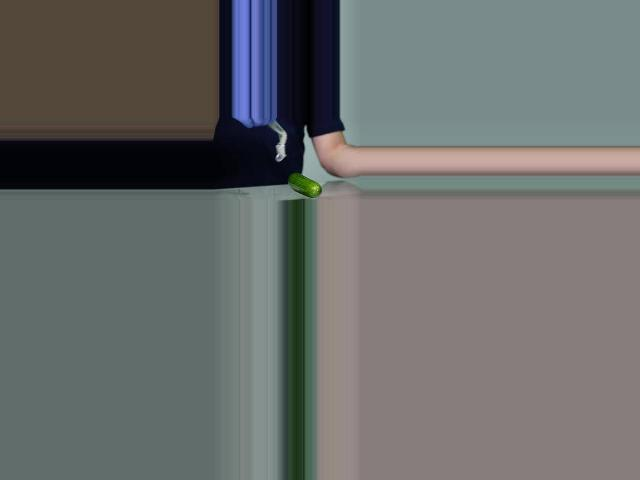cucumber: (288, 173, 322, 198)
